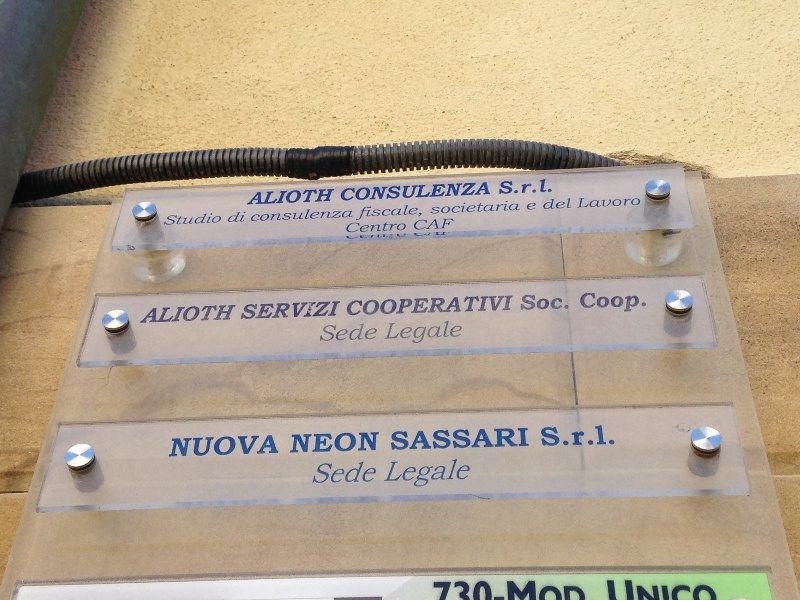text: (401, 458, 416, 488), (417, 458, 432, 488), (433, 458, 448, 488), (449, 458, 464, 488), (401, 321, 416, 346), (417, 321, 432, 346), (433, 321, 448, 346), (513, 428, 529, 450), (449, 321, 463, 346), (177, 435, 192, 457), (193, 435, 208, 457), (209, 435, 224, 457), (225, 435, 240, 457), (241, 435, 256, 457), (257, 435, 272, 457), (305, 432, 320, 454), (321, 432, 336, 454), (337, 432, 352, 454), (353, 432, 368, 454), (401, 428, 416, 450), (417, 428, 432, 450), (433, 428, 448, 450), (449, 428, 464, 450), (465, 428, 480, 450), (481, 428, 496, 450), (497, 428, 512, 450), (545, 425, 560, 447), (561, 425, 576, 447), (577, 425, 592, 447), (593, 425, 608, 447), (321, 462, 336, 484), (337, 462, 352, 484), (353, 462, 368, 484), (497, 296, 513, 316), (593, 293, 608, 314), (609, 293, 624, 314), (625, 293, 640, 314), (353, 296, 368, 316), (369, 296, 384, 316), (385, 296, 400, 316), (401, 296, 416, 316), (417, 296, 432, 316), (433, 296, 448, 316), (449, 296, 464, 316), (465, 296, 480, 316), (481, 296, 496, 316), (353, 182, 368, 201), (369, 182, 384, 201), (385, 182, 400, 201), (401, 182, 416, 201), (417, 182, 432, 201), (433, 182, 448, 201), (449, 182, 464, 201), (465, 182, 480, 201), (257, 301, 272, 320), (273, 301, 288, 320), (289, 301, 304, 320), (305, 301, 320, 320), (321, 301, 336, 320), (449, 581, 464, 600), (465, 581, 480, 600), (481, 581, 496, 600), (497, 581, 512, 600), (513, 581, 528, 600), (529, 581, 544, 600), (545, 581, 560, 600), (561, 581, 576, 600), (577, 581, 592, 600), (593, 581, 608, 600), (609, 581, 624, 600), (625, 581, 640, 600), (641, 581, 656, 600), (657, 581, 672, 600), (673, 581, 688, 600), (689, 581, 704, 600), (389, 321, 400, 346), (161, 305, 176, 323), (177, 305, 192, 323), (193, 305, 208, 323), (209, 305, 224, 323), (321, 324, 336, 342), (337, 324, 352, 342), (353, 324, 368, 342), (391, 458, 400, 488), (434, 581, 448, 600), (292, 432, 304, 454), (580, 293, 592, 314), (389, 428, 400, 450), (273, 189, 288, 205), (289, 189, 304, 205), (305, 189, 320, 205), (529, 295, 544, 311), (545, 295, 560, 311), (705, 581, 717, 600), (369, 205, 384, 220), (385, 205, 400, 220), (401, 205, 416, 220), (258, 189, 272, 205), (321, 189, 335, 205), (369, 432, 379, 454), (369, 462, 379, 484), (433, 200, 448, 214), (449, 200, 464, 214), (465, 200, 480, 214), (481, 200, 496, 214), (497, 200, 512, 214), (465, 458, 472, 488), (341, 182, 352, 201), (245, 301, 256, 320), (337, 209, 353, 222), (225, 305, 236, 323), (177, 213, 192, 226), (193, 213, 208, 226), (209, 213, 224, 226), (257, 209, 272, 222), (273, 209, 288, 222), (289, 209, 304, 222), (305, 209, 320, 222), (321, 209, 336, 222), (545, 198, 560, 210), (369, 324, 379, 342), (481, 182, 490, 201), (593, 198, 608, 209), (609, 198, 624, 209), (625, 198, 640, 209), (417, 219, 432, 230), (433, 219, 448, 230), (609, 425, 616, 447), (353, 223, 368, 233), (369, 223, 384, 233), (385, 223, 400, 233), (561, 295, 570, 311), (579, 198, 592, 209), (345, 296, 352, 316), (561, 198, 572, 210), (273, 435, 279, 457), (153, 305, 160, 323), (641, 293, 647, 314), (521, 295, 528, 311), (539, 425, 544, 447), (417, 205, 424, 220), (168, 213, 176, 226), (513, 200, 520, 214), (449, 219, 457, 230), (172, 435, 176, 457), (337, 301, 341, 320), (363, 205, 368, 220), (353, 234, 368, 239), (369, 234, 384, 239), (385, 234, 400, 239), (417, 232, 432, 237), (529, 202, 537, 211), (401, 223, 408, 233), (317, 462, 320, 484), (433, 232, 446, 237), (241, 212, 246, 223), (252, 209, 256, 222), (347, 223, 352, 233), (236, 212, 240, 223), (347, 234, 352, 239), (401, 234, 406, 239), (414, 219, 416, 230), (641, 198, 642, 209), (414, 232, 416, 237), (527, 202, 528, 211)
